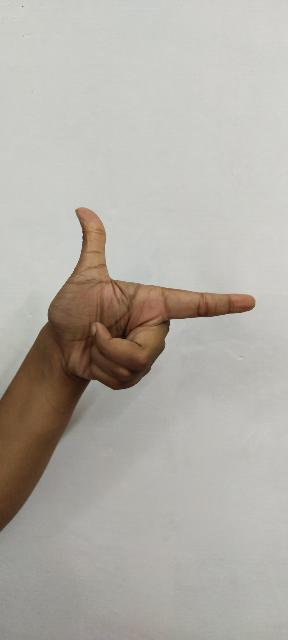chandrakala: (40, 200, 274, 406)
